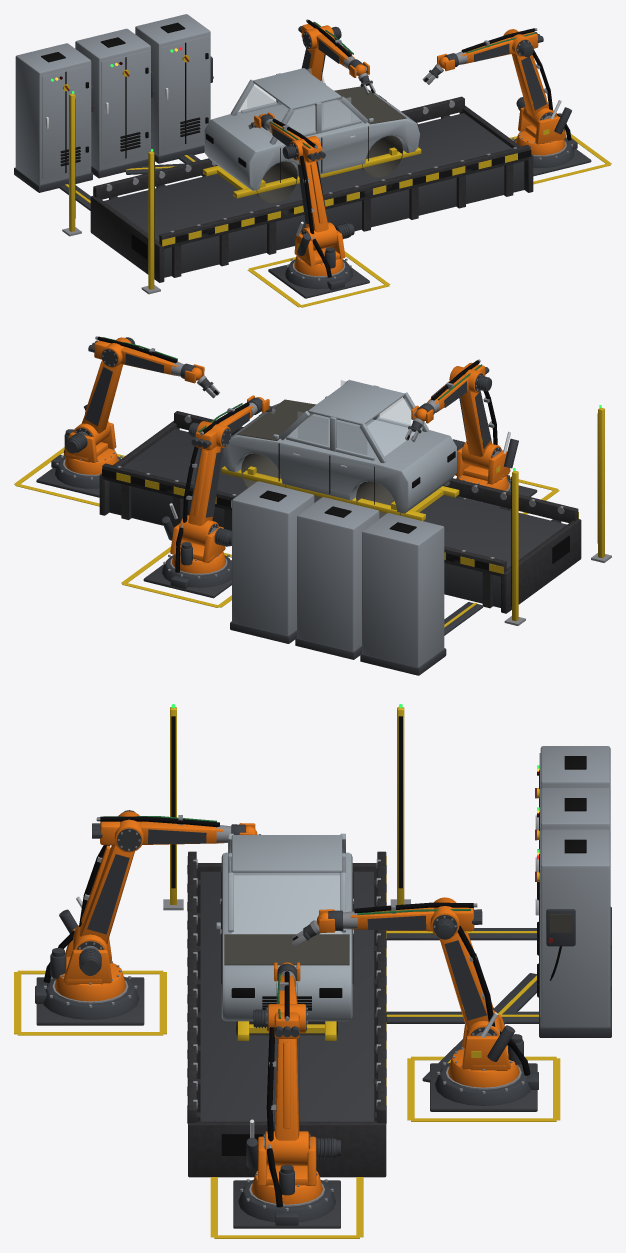
The model's file is robot_arms.glb.
3 renders of one model, top to bottom at view 1: azimuth 30°, elevation 25°; view 2: azimuth 150°, elevation 25°; view 3: azimuth 270°, elevation 25°, orthographic. The views are drawn at different scales.
Visible parts, largest first — view 1: line, cells, carShell, a0TurretBody, a0BaseBody, a2TurretBody, a0UpperBody, a2UpperBody, a2ForeBody, a0ForeBody, a2BaseBody, a1ForeBody (+3 smaller); view 2: cells, line, carShell, a1UpperBody, a1TurretBody, a0UpperBody, a1BaseBody, a2TurretBody, a0TurretBody, a2ForeBody, a1ForeBody, a2BaseBody (+5 smaller); view 3: line, cells, carShell, a2UpperBody, a0BaseBody, a2TurretBody, a0TurretBody, a2BaseBody, a1BaseBody, a1TurretBody, a1ForeBody, a0ForeBody (+7 smaller).
Part boxes in pixels (bbox=[...]): line: bbox=[90, 96, 611, 307]; cells: bbox=[14, 14, 213, 294]; carShell: bbox=[204, 68, 419, 203]; a0TurretBody: bbox=[294, 221, 354, 277]; a0BaseBody: bbox=[268, 258, 369, 298]; a2TurretBody: bbox=[516, 97, 571, 155]; a0UpperBody: bbox=[296, 136, 337, 250]; a2UpperBody: bbox=[507, 30, 557, 127]; a2ForeBody: bbox=[455, 28, 543, 64]; a0ForeBody: bbox=[265, 118, 325, 162]; a2BaseBody: bbox=[512, 137, 591, 176]; a1ForeBody: bbox=[298, 20, 355, 68]; cells: bbox=[230, 405, 611, 675]; line: bbox=[14, 411, 581, 613]; carShell: bbox=[222, 379, 456, 518]; a1UpperBody: bbox=[179, 421, 223, 545]; a1TurretBody: bbox=[161, 503, 231, 573]; a0UpperBody: bbox=[454, 367, 501, 469]; a1BaseBody: bbox=[143, 554, 231, 598]; a2TurretBody: bbox=[63, 404, 118, 474]; a0TurretBody: bbox=[453, 431, 518, 490]; a2ForeBody: bbox=[88, 336, 183, 376]; a1ForeBody: bbox=[188, 402, 257, 450]; a2BaseBody: bbox=[36, 454, 122, 497]; line: bbox=[14, 851, 560, 1238]; cells: bbox=[163, 704, 611, 1082]; carShell: bbox=[216, 833, 353, 1035]; a2UpperBody: bbox=[263, 1004, 310, 1165]; a0BaseBody: bbox=[35, 976, 144, 1025]; a2TurretBody: bbox=[246, 1119, 340, 1207]; a0TurretBody: bbox=[43, 896, 126, 1001]; a2BaseBody: bbox=[233, 1179, 340, 1228]; a1BaseBody: bbox=[430, 1062, 538, 1111]; a1TurretBody: bbox=[448, 1012, 530, 1087]; a1ForeBody: bbox=[343, 897, 482, 939]; a0ForeBody: bbox=[92, 811, 231, 852].
Size of the model in its own units: 5.48 by 1.53 by 4.1.
Materials: 21 (4 with a texture image).
